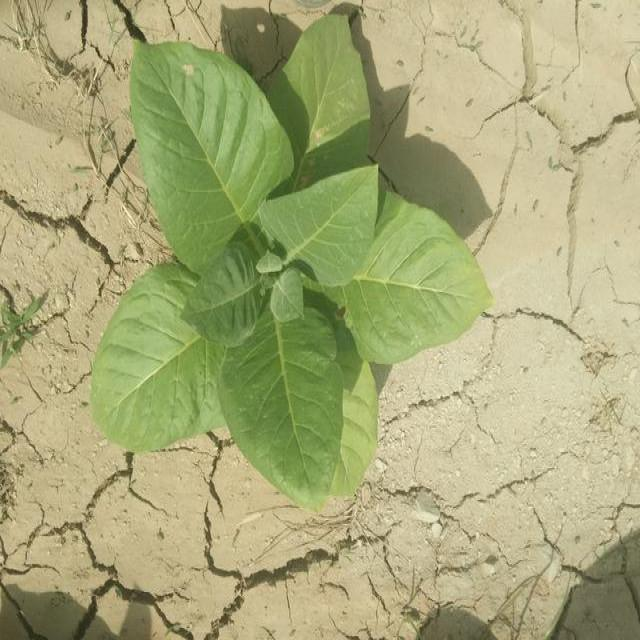crop: (90, 29, 493, 496)
